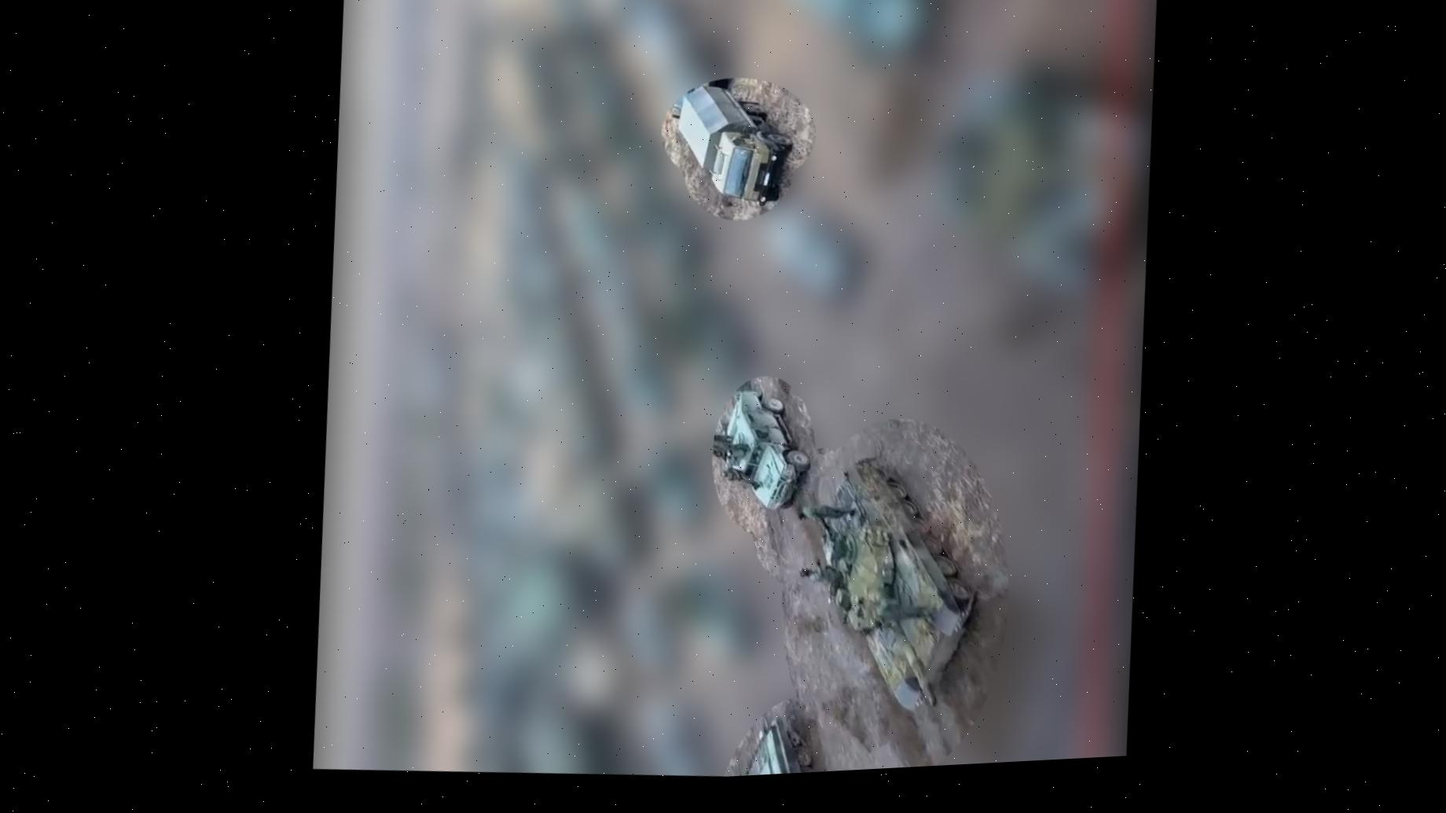armored_car: (712, 379, 822, 519)
tank: (804, 447, 995, 727), (726, 697, 861, 776)
truck: (671, 74, 795, 210)
